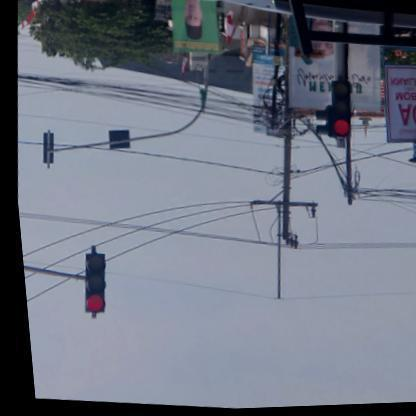red: (74, 250, 106, 314), (324, 80, 354, 143)
